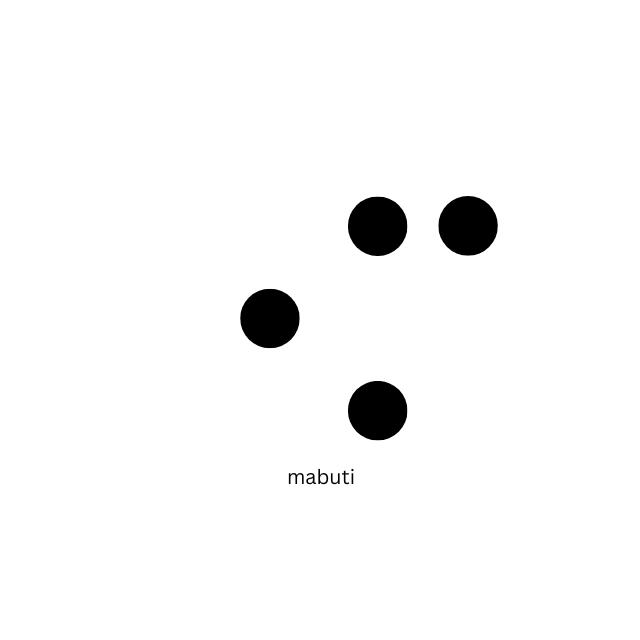dot_5: (147, 196, 301, 443)
two_cell_alphabet_mabuti: (345, 195, 499, 442)
